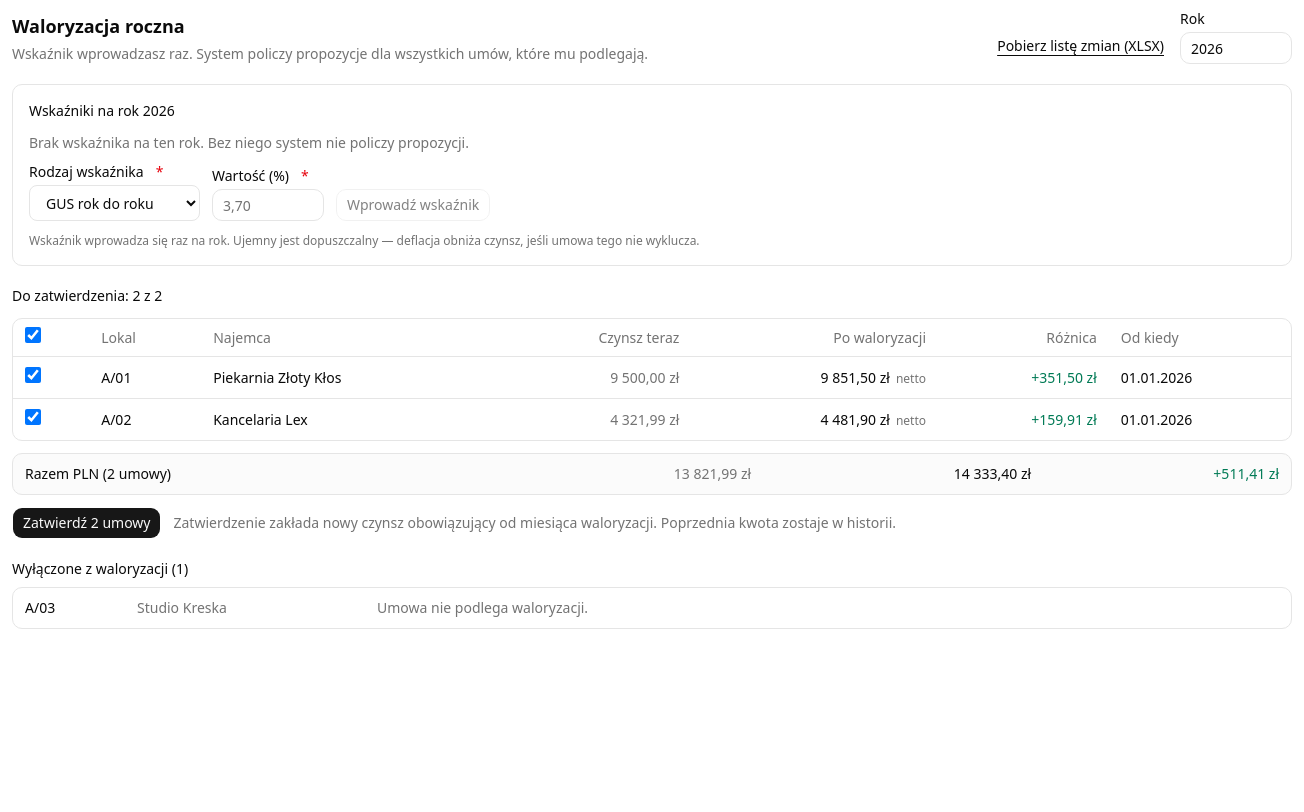
Test case: Ekran waloryzacji › po zatwierdzeniu mówi o zdarzeniach o zabezpieczeniach
Expected: the text "A/01" is shown, [89, 356, 201, 398]
Click the button "Zatwierdź 2 umowy". click: (87, 523)
box: [12, 507, 162, 539]
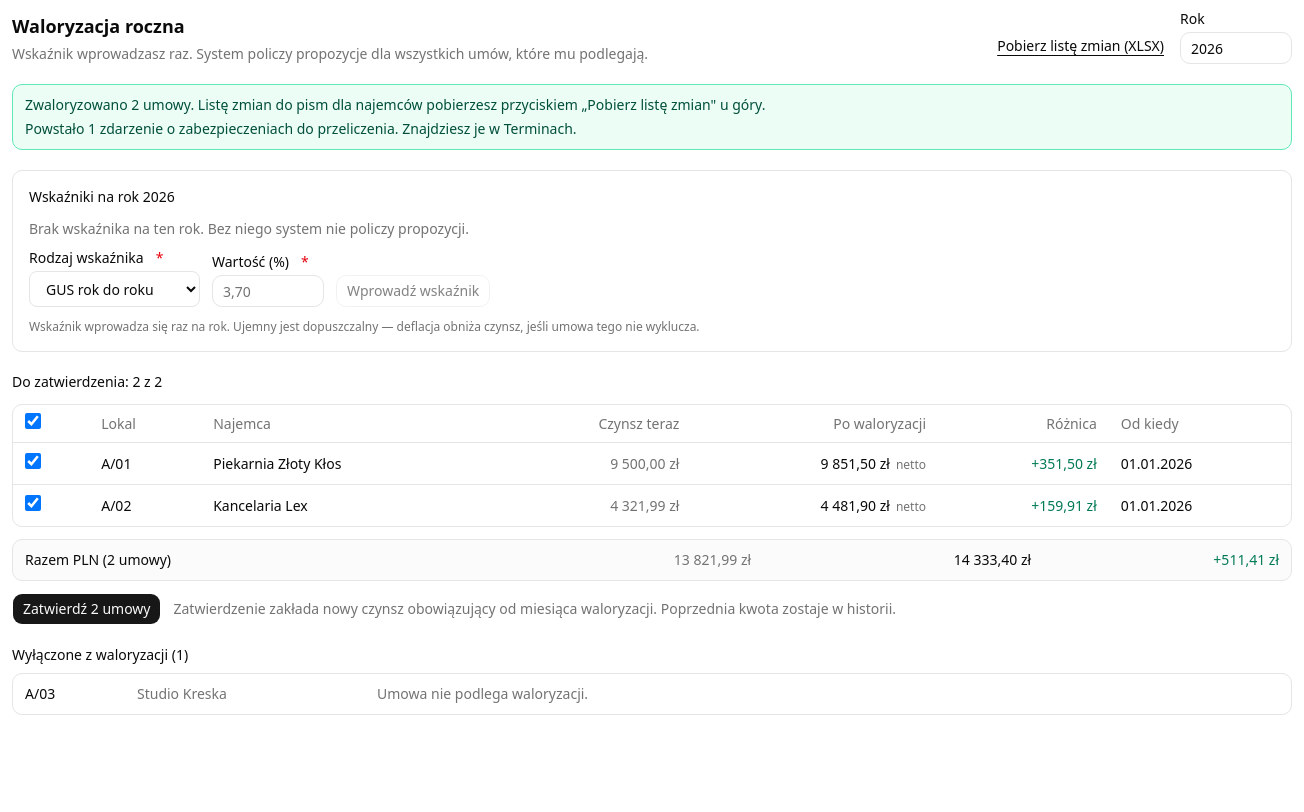
Now the text "Zwaloryzowano 2 umowy" is shown, box [25, 95, 765, 114]
Now the text "zabezpieczeniach do przeliczenia" is shown, box [163, 119, 577, 138]
